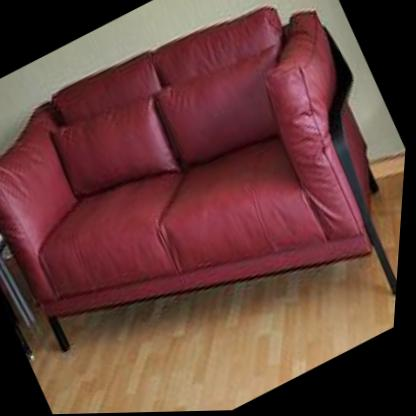Sofa: (0, 0, 416, 416)
Wooden floor: (35, 259, 400, 415)
